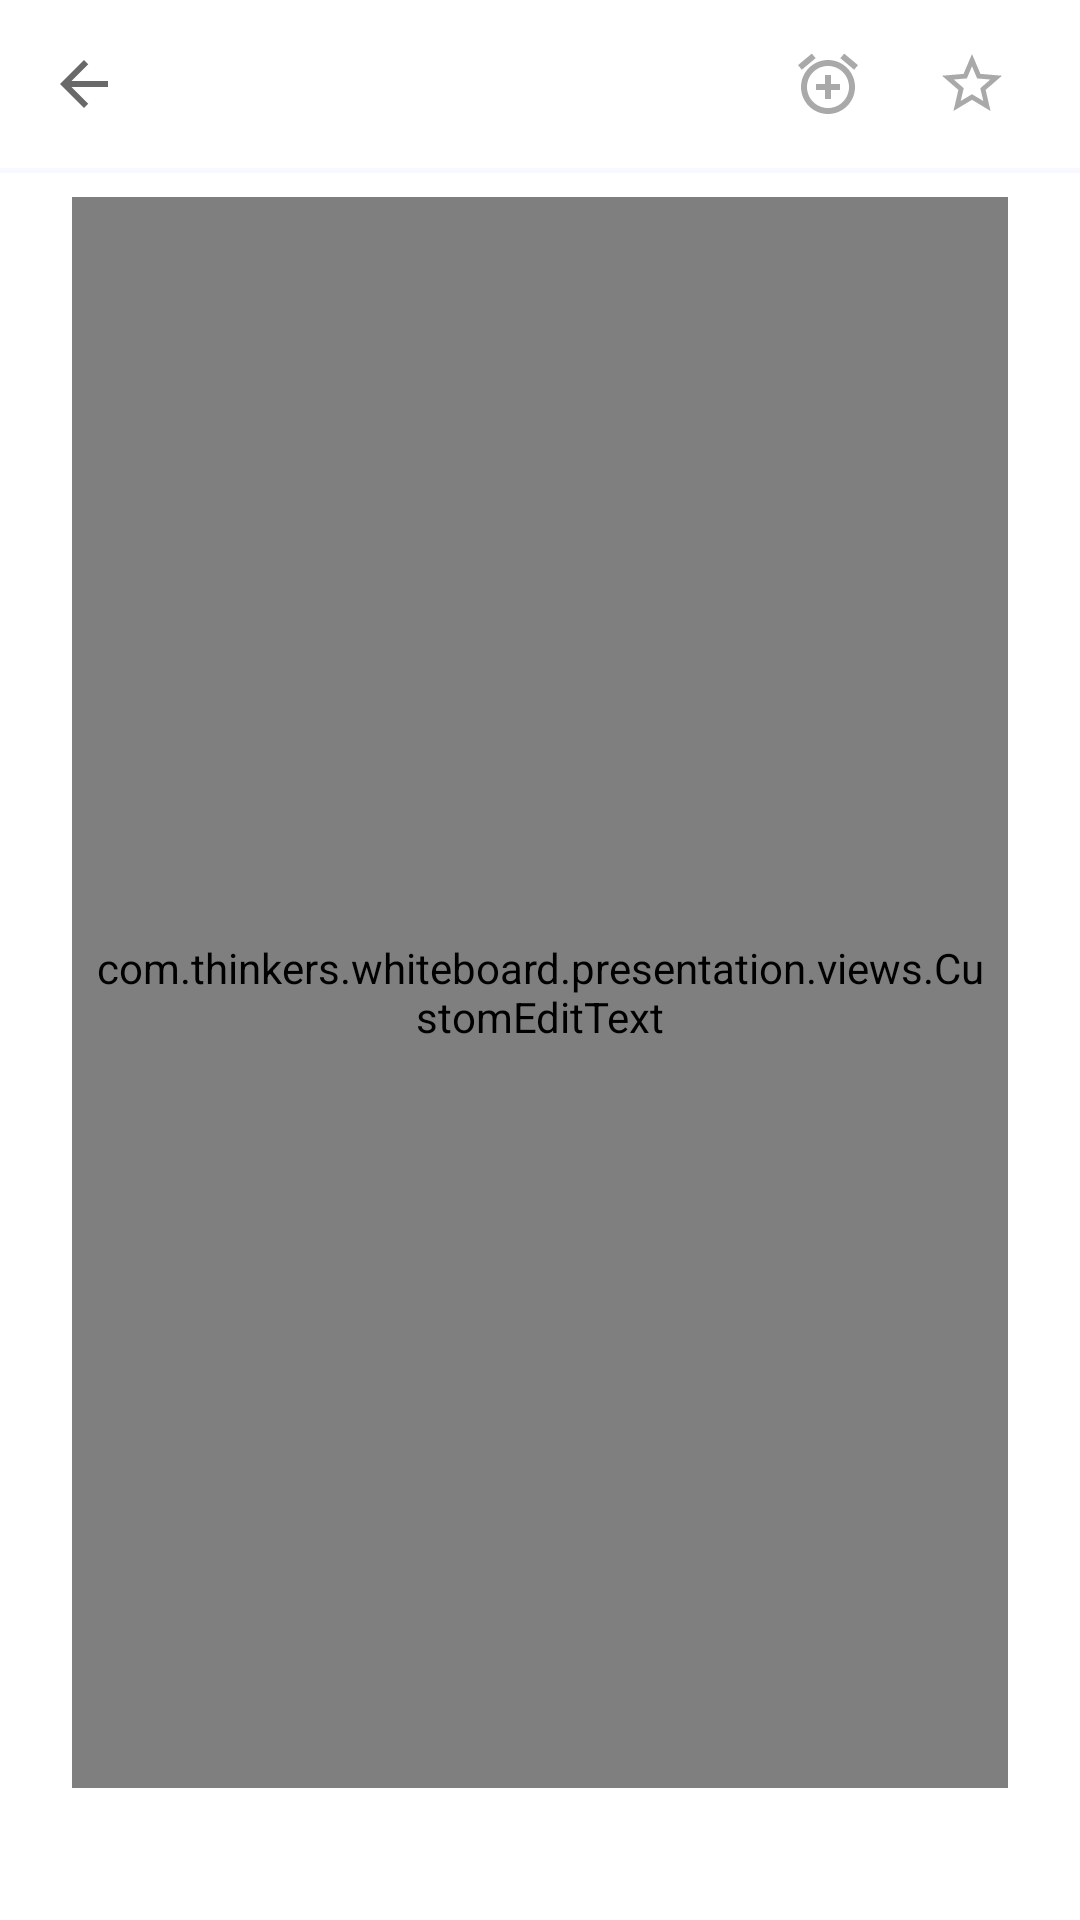

Icons on this 1080*1920 Android screen, each with the point to tap as (x,y):
add alarm: (828,84)
appbar favorites: (972,83)
